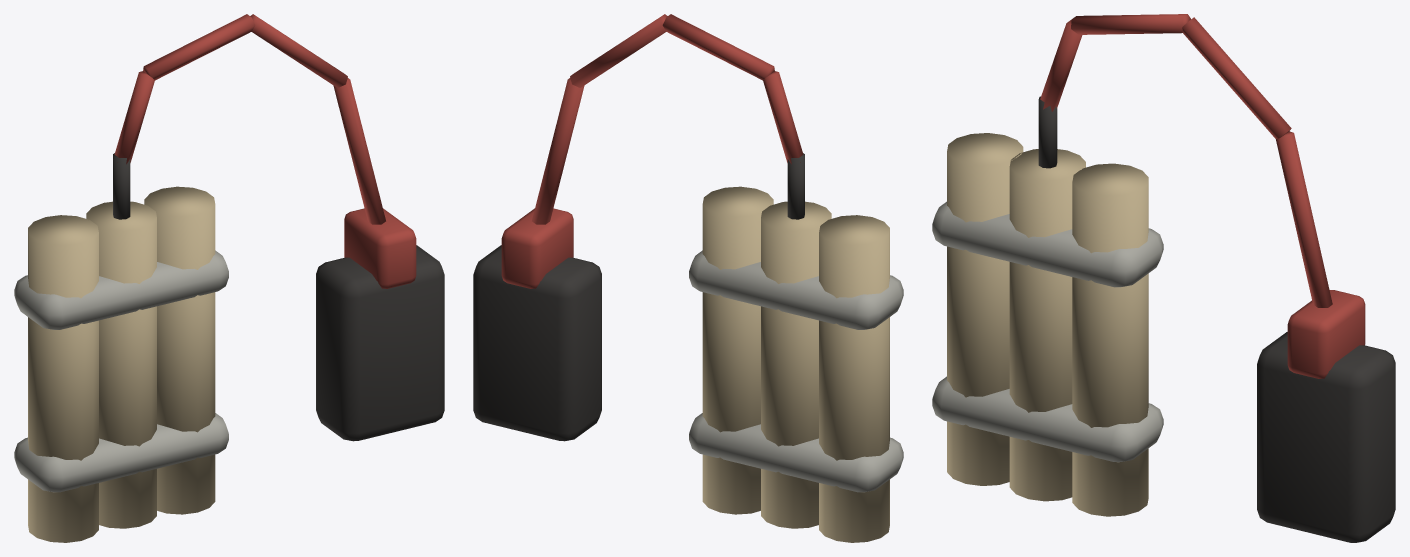
Rendered from charge.glb.
The picture shows the model from 3 angles, left to right: view 1: azimuth 30°, elevation 25°; view 2: azimuth 150°, elevation 25°; view 3: azimuth 330°, elevation 25°; orthographic projection. The views are drawn at different scales.
Parts seen in each view (by area): view 1: clacker, stick, stick.002, stick.001, band, band.001, trigger, wire.003, wire.001, wire.002, wire, cap; view 2: clacker, stick, stick.002, stick.001, band, band.001, trigger, wire.003, wire.001, wire.002, wire, cap; view 3: clacker, stick.002, stick, stick.001, band, band.001, trigger, wire.003, wire.002, wire.001, wire, cap.
Part boxes in pixels (box(x1,y1,x2,y2)): clacker: box(316, 245, 444, 441); stick: box(28, 215, 98, 542); stick.002: box(144, 186, 215, 514); stick.001: box(86, 201, 156, 528); band: box(14, 413, 228, 492); band.001: box(14, 250, 228, 329); trigger: box(344, 208, 416, 288); wire.003: box(333, 78, 385, 224); wire.001: box(143, 14, 255, 80); wire.002: box(250, 14, 347, 87); wire: box(114, 71, 154, 164); cap: box(113, 153, 130, 219); clacker: box(473, 245, 601, 441); stick: box(819, 215, 889, 542); stick.002: box(702, 186, 773, 514); stick.001: box(761, 201, 831, 528); band: box(689, 413, 903, 492); band.001: box(689, 250, 903, 329); trigger: box(501, 208, 573, 288); wire.003: box(532, 78, 584, 224); wire.001: box(662, 14, 774, 80); wire.002: box(570, 14, 667, 87); wire: box(763, 71, 803, 164); cap: box(787, 153, 804, 219); clacker: box(1257, 332, 1395, 542); stick.002: box(1072, 163, 1148, 516); stick: box(947, 133, 1023, 485); stick.001: box(1009, 149, 1085, 501); band: box(932, 376, 1163, 462); band.001: box(932, 201, 1163, 287); trigger: box(1287, 290, 1365, 378); wire.003: box(1276, 131, 1332, 307); wire.002: box(1182, 17, 1291, 138); wire.001: box(1071, 14, 1190, 34); wire: box(1040, 19, 1082, 111); cap: box(1038, 96, 1057, 168).
Size of the model in its own units: 0.313 by 0.345 by 0.054.
